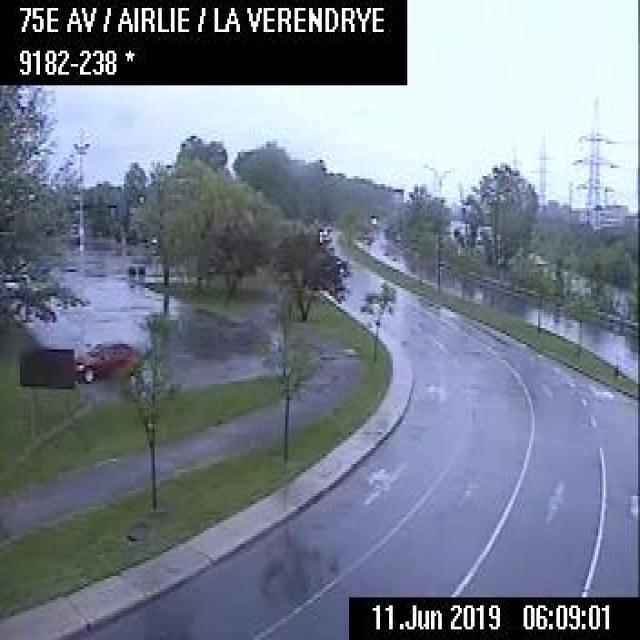vehicle: (71, 338, 141, 381)
